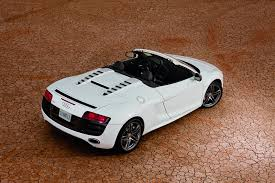car: (26, 48, 227, 149)
